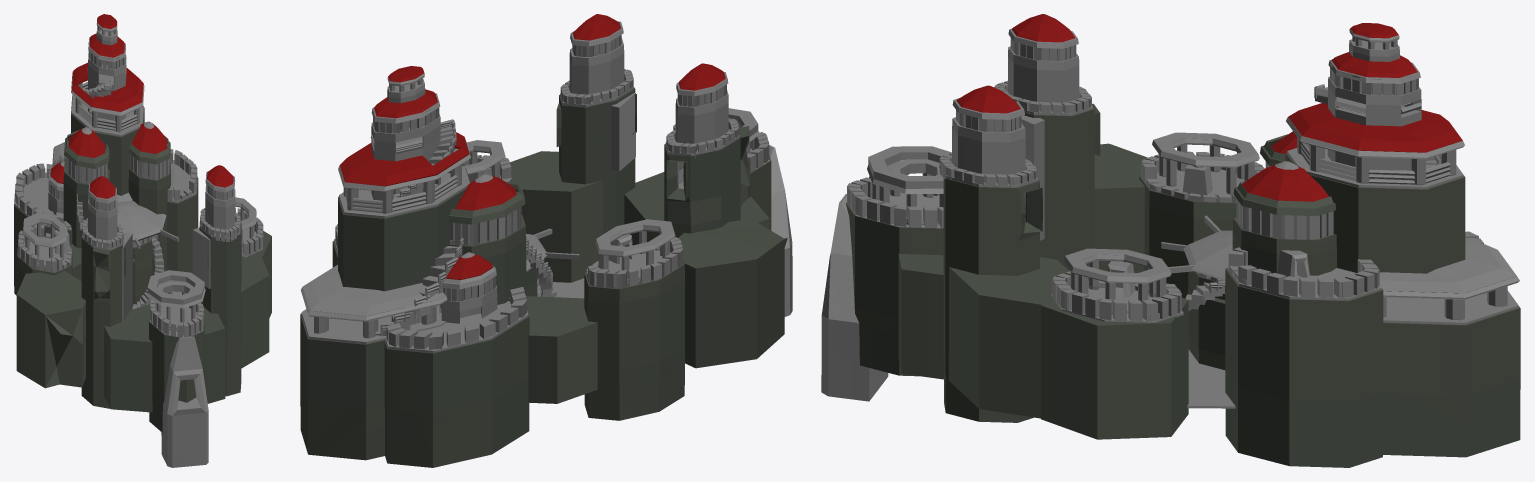
Rendered from SM_castle.fbx.
3 views of the same model, side by side, from view 1: azimuth 30°, elevation 25°; view 2: azimuth 150°, elevation 25°; view 3: azimuth 270°, elevation 25° (orthographic). The views are drawn at different scales.
Parts seen in each view (by area): view 1: castle; view 2: castle; view 3: castle.
Boxes of the visible parts, x1,y1,x2,y2 form: castle: [14, 14, 271, 467]; castle: [300, 14, 792, 467]; castle: [821, 14, 1520, 467].
Bounding box in the file's own units: 4057 × 4475 × 6580.
